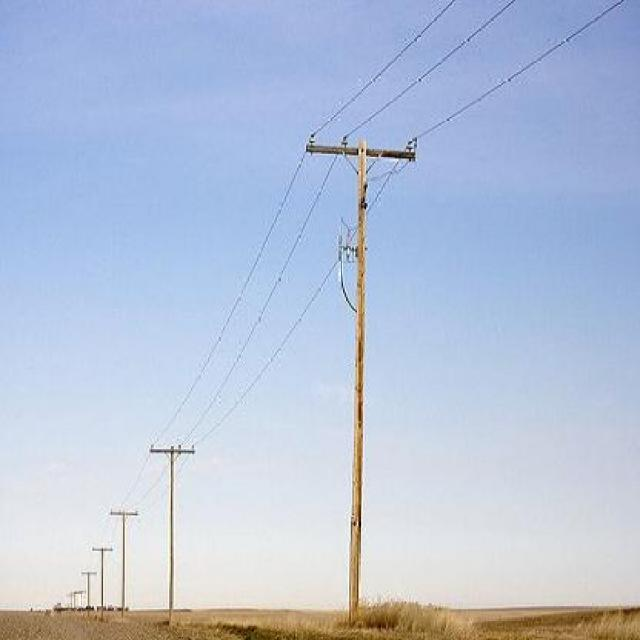pole: (299, 121, 423, 604), (143, 437, 202, 606), (108, 504, 140, 611)
